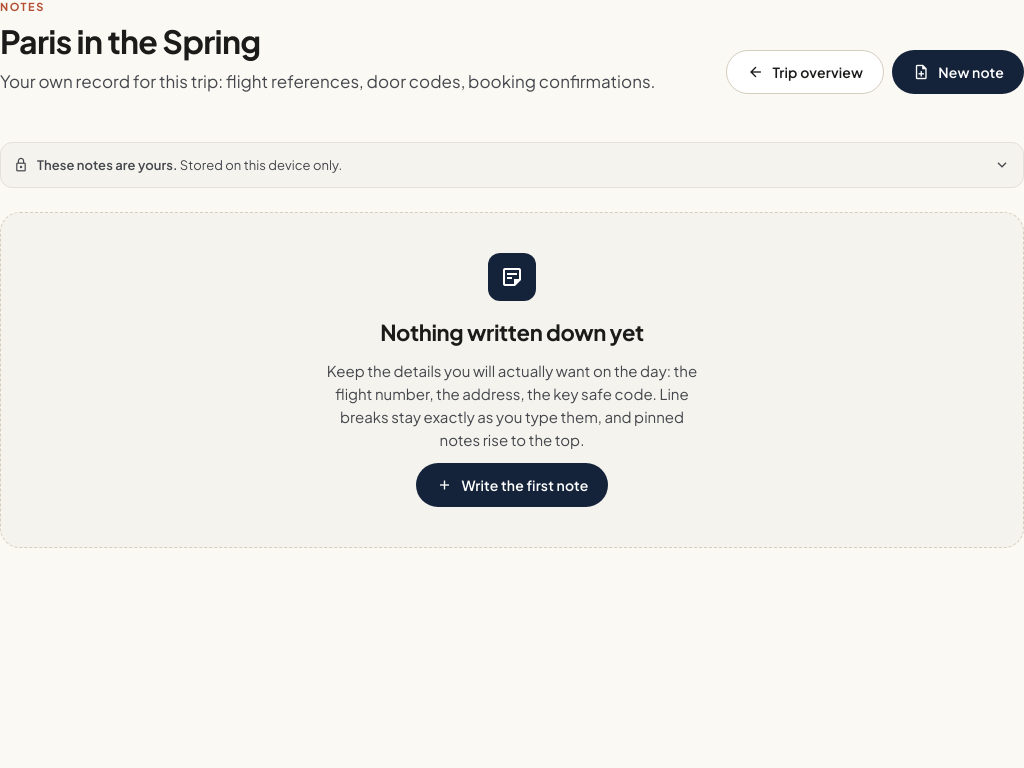
Test: NotesPage › writing a note › trims the title and body before saving
This screenshot has width=1024, height=768.
Click the button "New note". click: (958, 72)
box: [892, 50, 1023, 94]
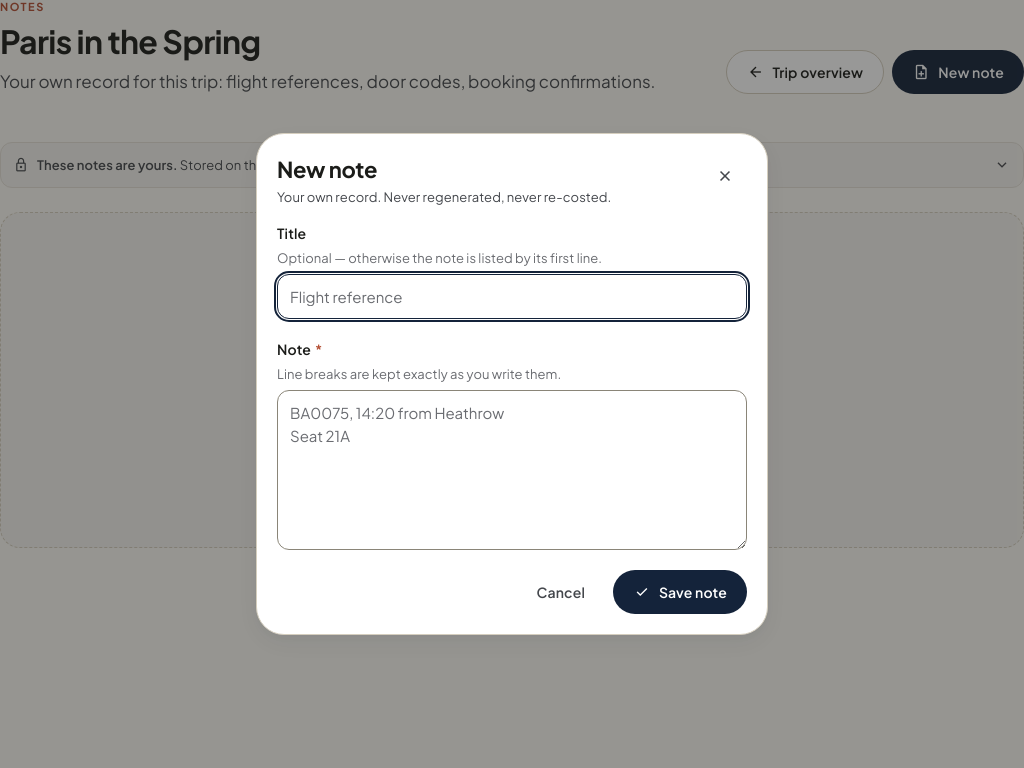
Type "  Padded  " into the field labelled "Title". click: (512, 296)
box: [277, 274, 747, 319]
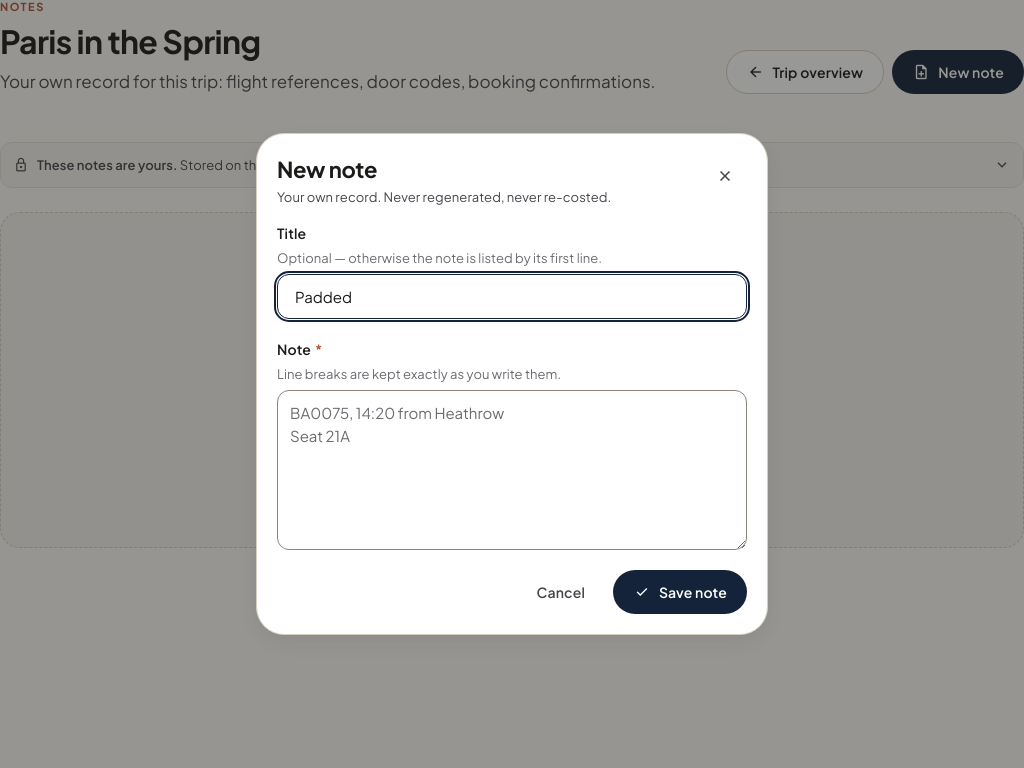
Type "   Body   " into the text box labelled "Note*". click: (512, 470)
box: [277, 390, 747, 550]
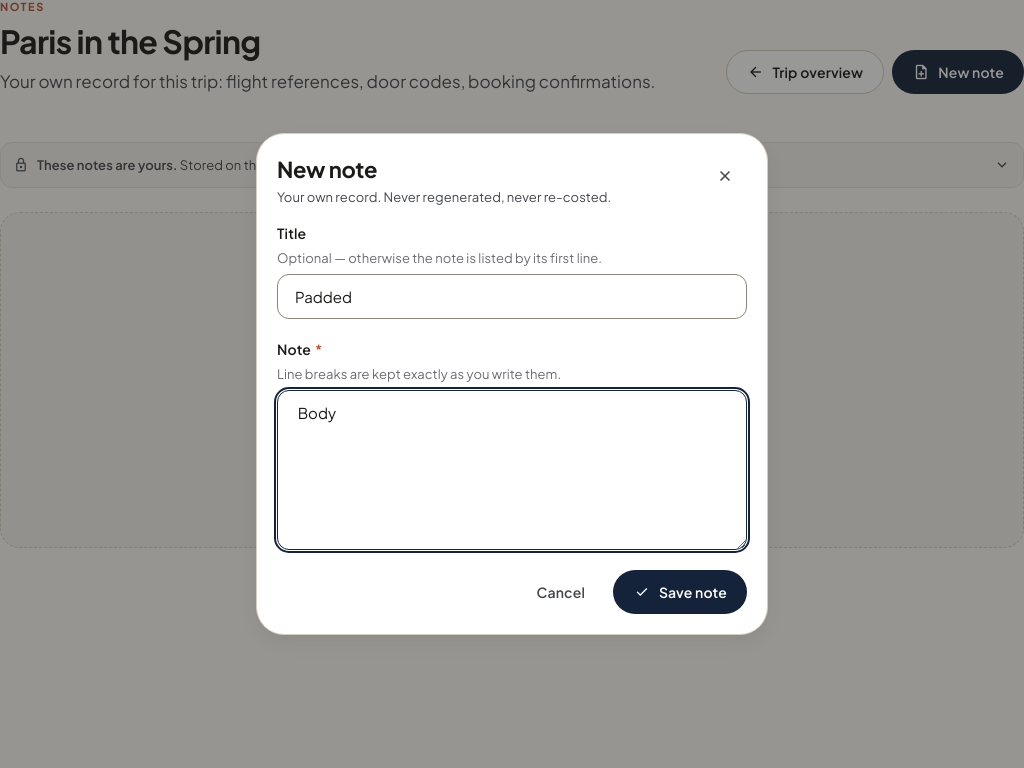
Click the button "Save note". click: (680, 592)
box: [613, 570, 747, 614]
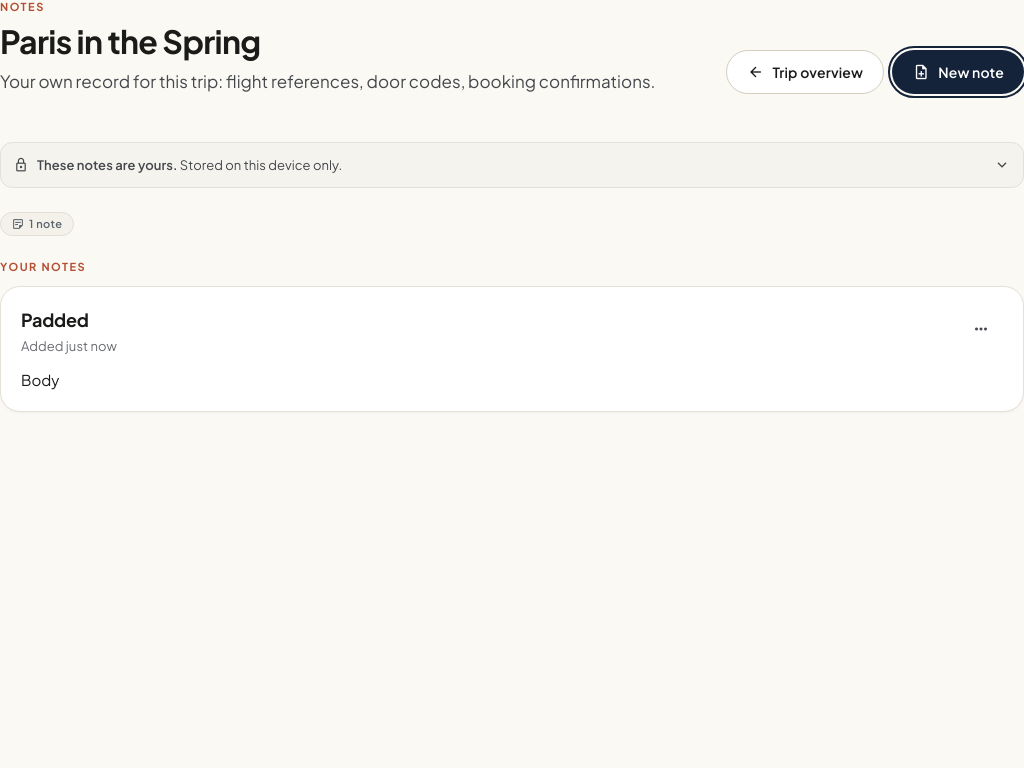
expect the heading "Padded" is shown: met, box [21, 308, 89, 331]
expect the text "Body" is shown: met, box [21, 370, 59, 389]
